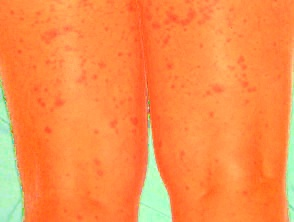SJS-TEN: (0, 0, 276, 205)
